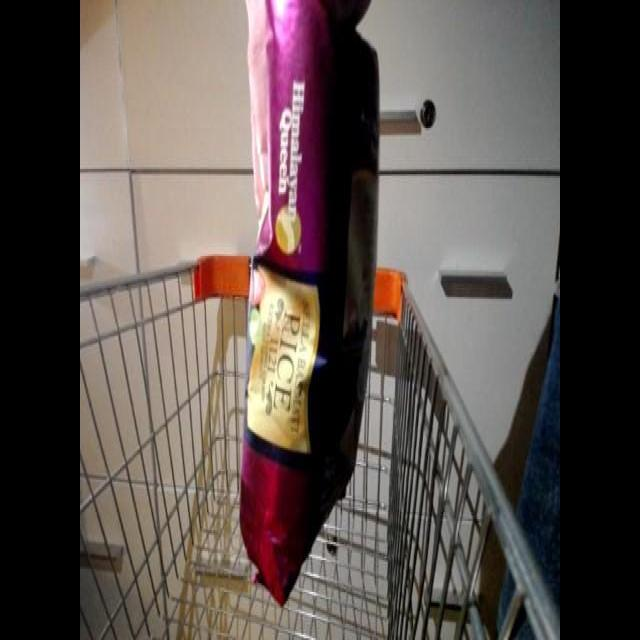Basmati Rice: (234, 7, 386, 605)
